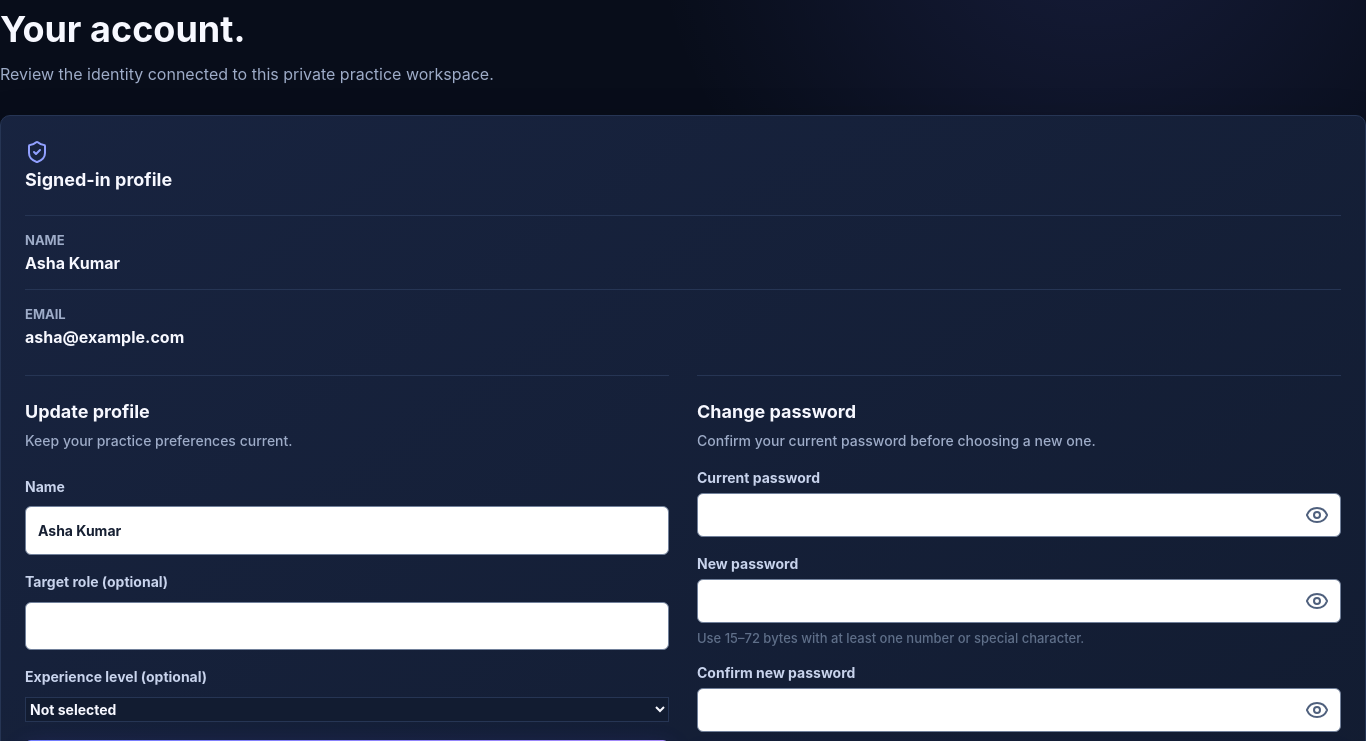
Test: AccountPage › blocks invalid password confirmation before request
Type "secure-password-123" into the password field labelled "Current password" at [1019, 515], box [697,493,1341,537]
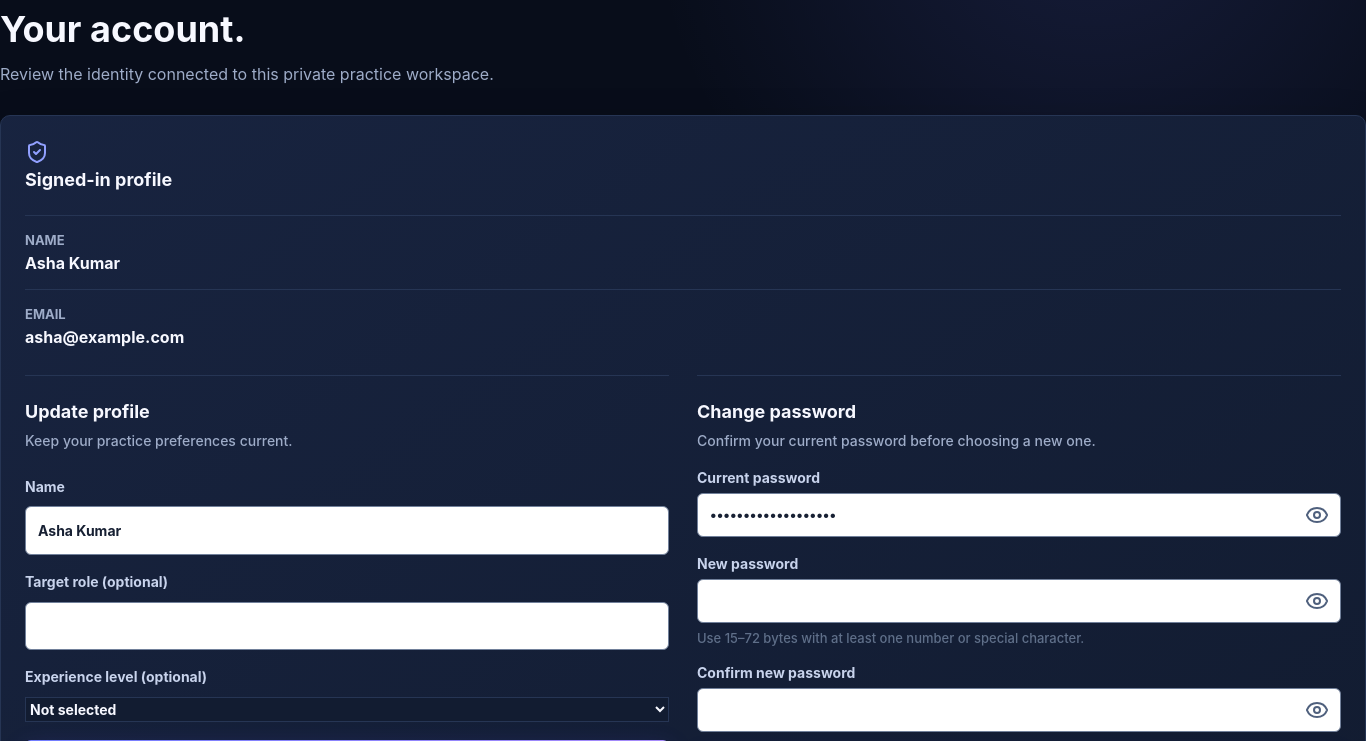
Type "new-secure-password-456" into the password field labelled "New password" at [1019, 601], box [697,579,1341,623]
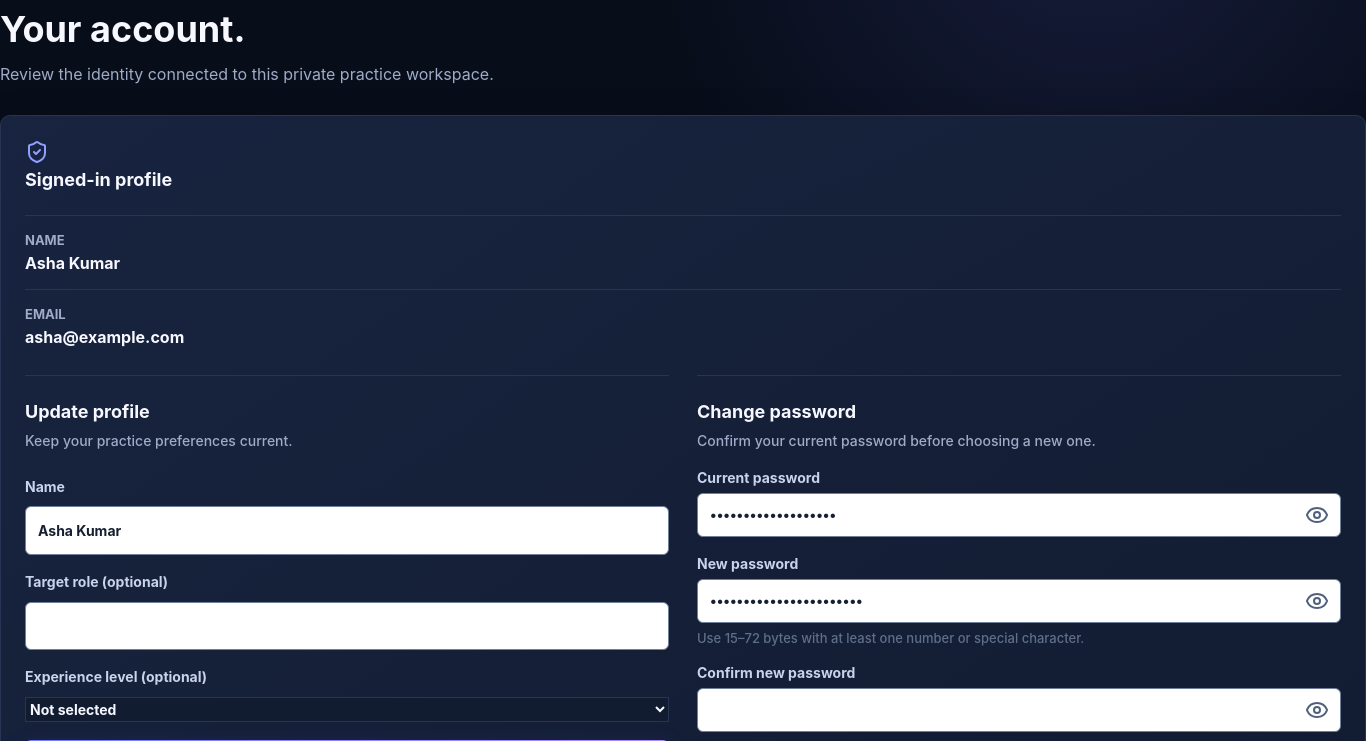
Type "different-password-456" into the password field labelled "Confirm new password" at [1019, 710], box [697,688,1341,732]
(page scrolled)
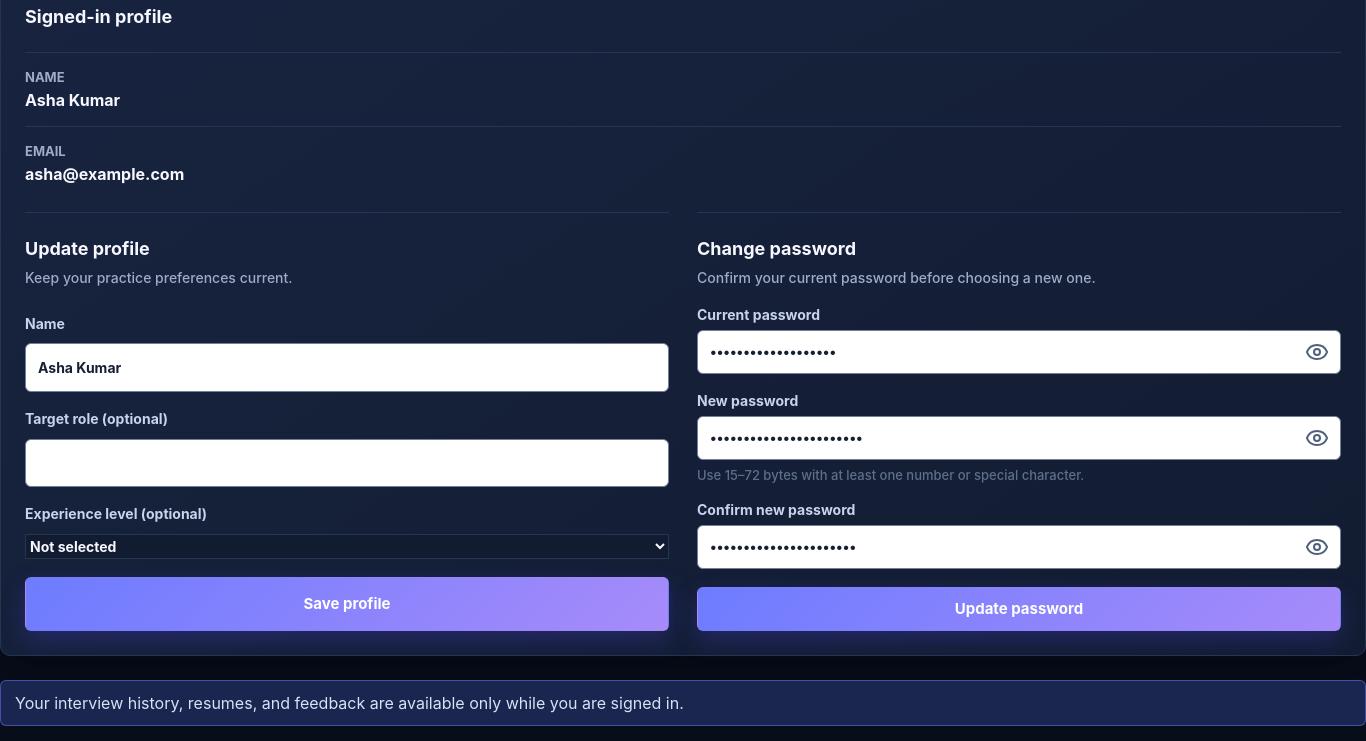
Click the button "Update password" at [1019, 609], box [697,587,1341,631]
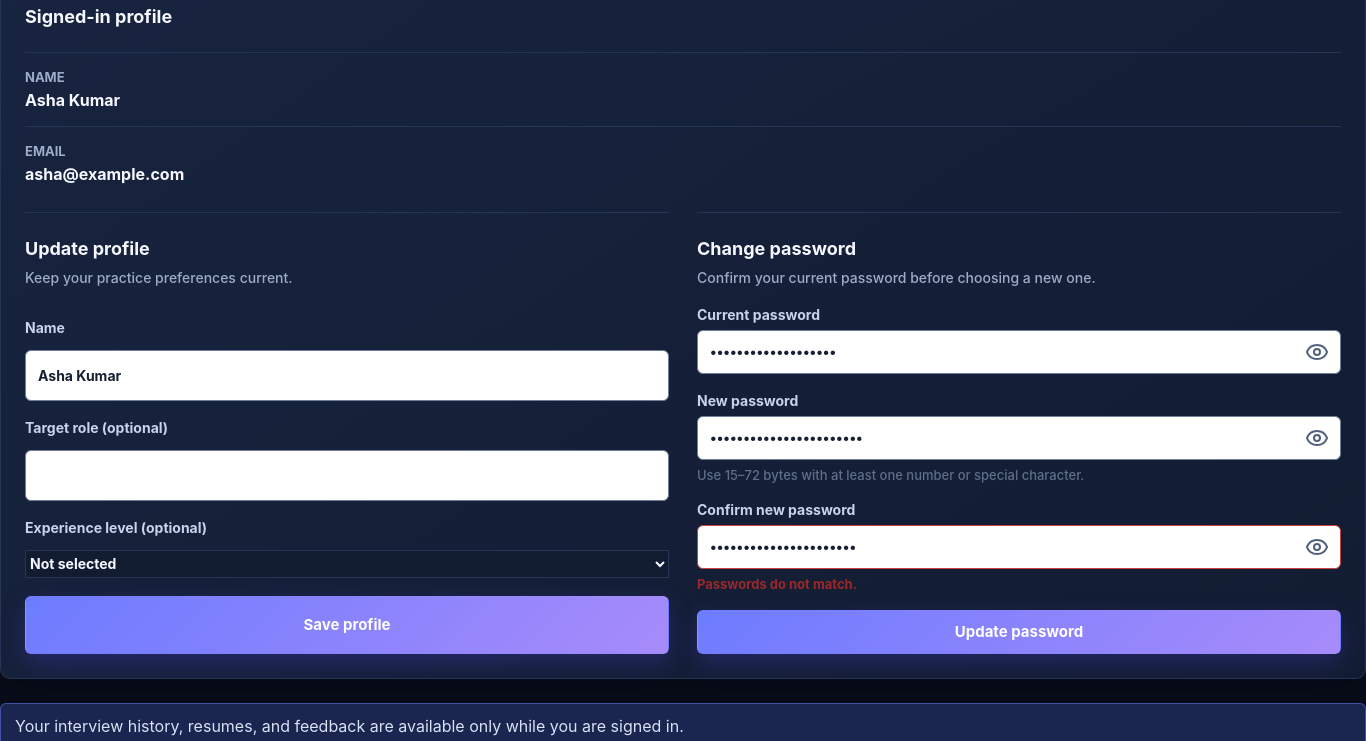
Expected: the text "Passwords do not match." is shown, [697,576,857,592]
